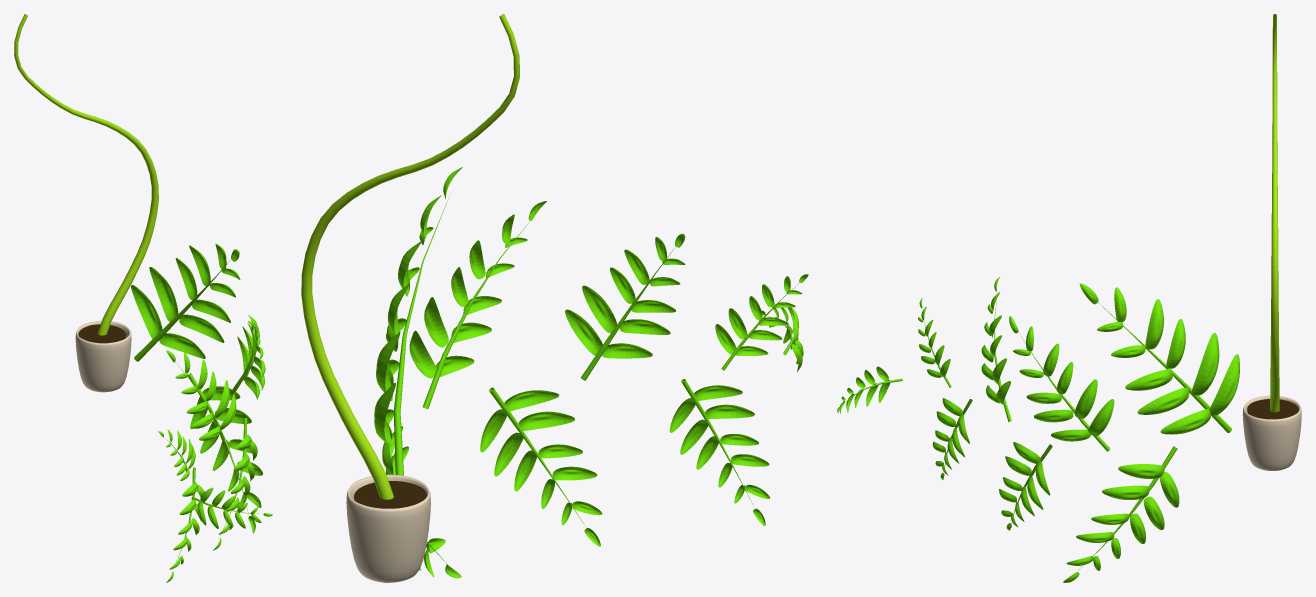
File: growing plant.fbx
3 renders of one model, left to right at view 1: azimuth 30°, elevation 25°; view 2: azimuth 150°, elevation 25°; view 3: azimuth 270°, elevation 25°, orthographic. The views are drawn at different scales.
Visible parts, largest first — view 1: Vert.003, Vert.001, Cylinder, Vert.004, Vert.006, Vert.002, Vert.009, Vert.005, Vert.007, Cylinder.001, Vert.008; view 2: Vert.001, Cylinder, Vert.005, Vert.006, Vert.002, Vert.003, Vert.007, Vert.008, Cylinder.001, Vert.004, Vert.009; view 3: Vert.003, Vert.004, Vert.002, Cylinder, Vert.001, Vert.005, Vert.006, Vert.007, Vert.009, Vert.008, Cylinder.001.
Boxes of the visible parts, x1,y1,x2,y2 form: Vert.003: (131,243,240,361); Vert.001: (14,14,158,335); Cylinder: (75,320,131,392); Vert.004: (187,373,262,533); Vert.006: (166,350,236,440); Vert.002: (232,315,265,399); Vert.009: (191,487,272,528); Vert.005: (213,418,257,550); Vert.007: (166,467,204,582); Cylinder.001: (78,324,125,343); Vert.008: (158,429,195,480); Vert.001: (301,14,519,499); Cylinder: (346,474,430,582); Vert.005: (480,387,602,546); Vert.006: (565,233,685,380); Vert.002: (409,201,546,408); Vert.003: (374,167,462,475); Vert.007: (669,379,769,525); Vert.008: (715,274,808,370); Cylinder.001: (354,481,426,508); Vert.004: (382,426,461,578); Vert.009: (761,306,803,371); Vert.003: (1079,283,1239,434); Vert.004: (1063,446,1179,582); Vert.002: (1009,316,1114,451); Cylinder: (1242,395,1301,470); Vert.001: (1270,14,1279,412); Vert.005: (999,442,1052,530); Vert.006: (981,276,1011,422); Vert.007: (932,398,972,479); Vert.009: (837,366,902,413); Vert.008: (918,298,951,387); Cylinder.001: (1247,399,1298,419).
Size of the model in its own units: 486 by 1219 by 1021.
